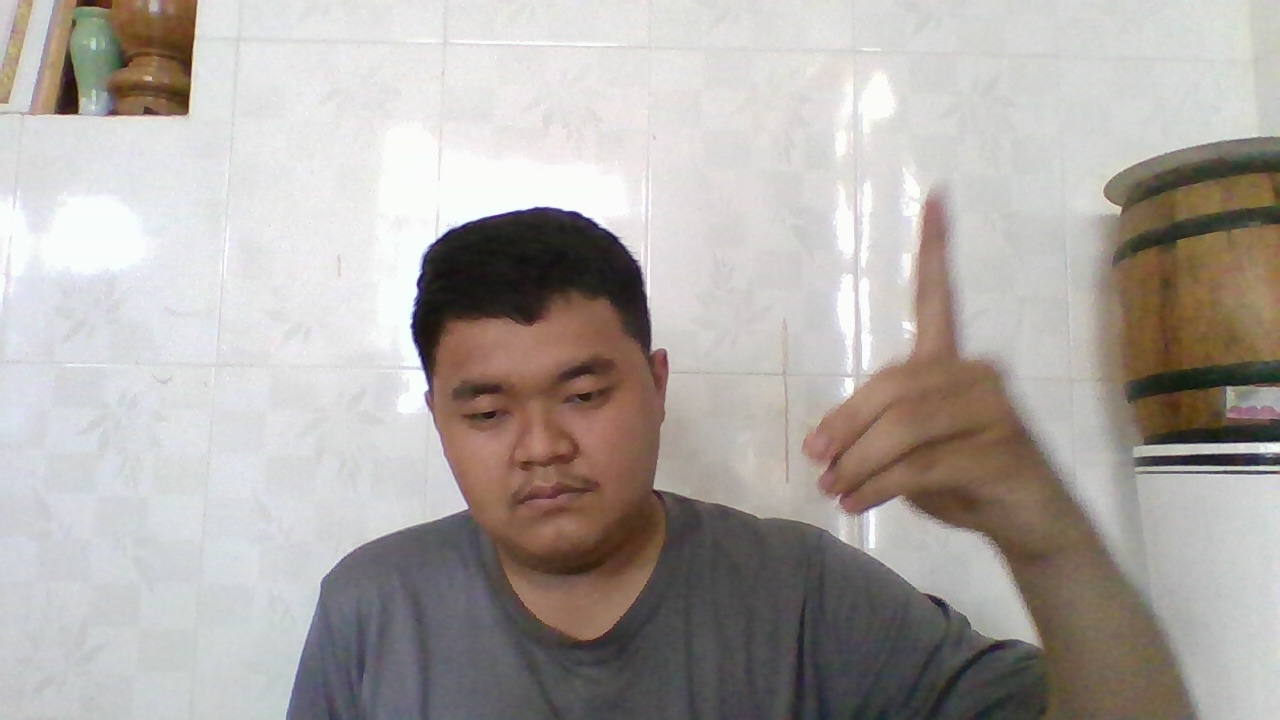D: (794, 187, 1069, 585)
